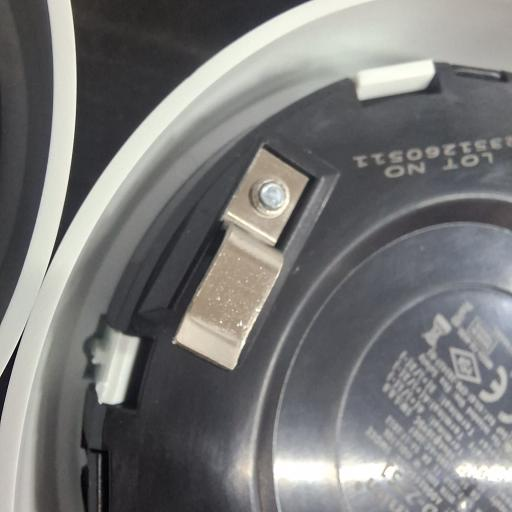yaysiz: (173, 143, 314, 372)
